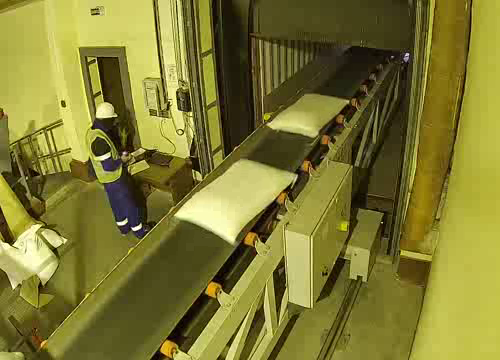bag: (161, 152, 310, 236), (265, 85, 364, 138)
